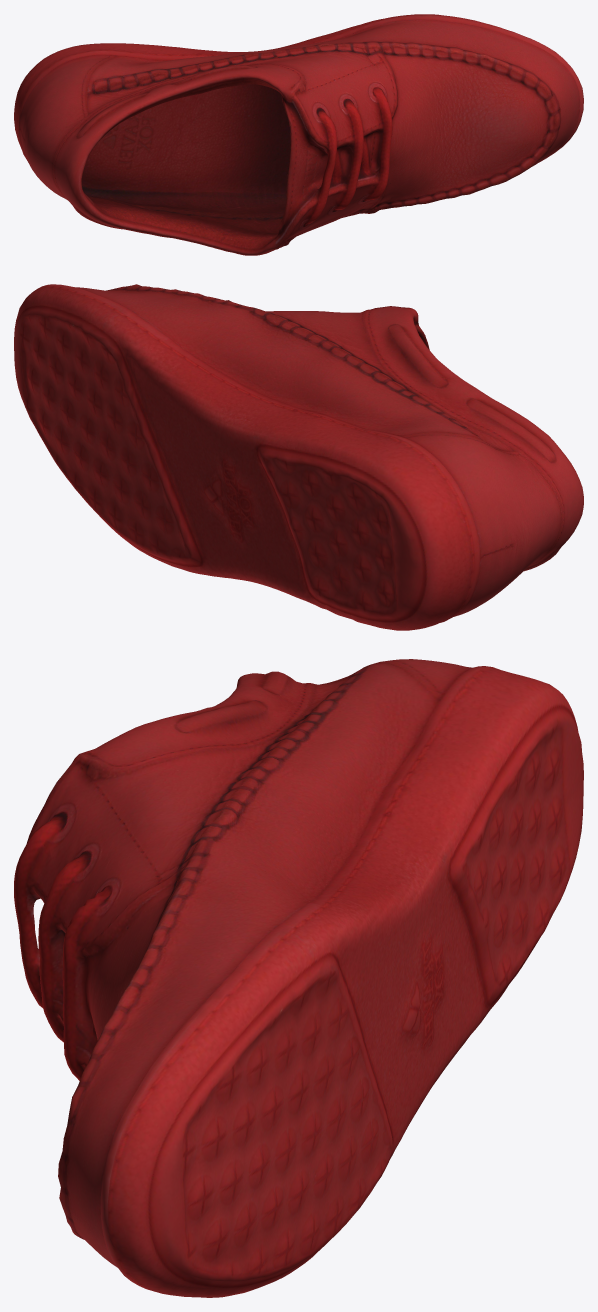
3 views of the same model, one above another, from view 1: azimuth 30°, elevation 25°; view 2: azimuth 150°, elevation 25°; view 3: azimuth 270°, elevation 25° (orthographic). The views are drawn at different scales.
Visible parts, largest first — view 1: mmGroup001; view 2: mmGroup001; view 3: mmGroup001.
Boxes of the visible parts, x1,y1,x2,y2 form: mmGroup001: [14, 14, 583, 255]; mmGroup001: [14, 284, 583, 630]; mmGroup001: [14, 659, 583, 1297].
Bounding box in the file's own units: 351 × 138 × 187.
